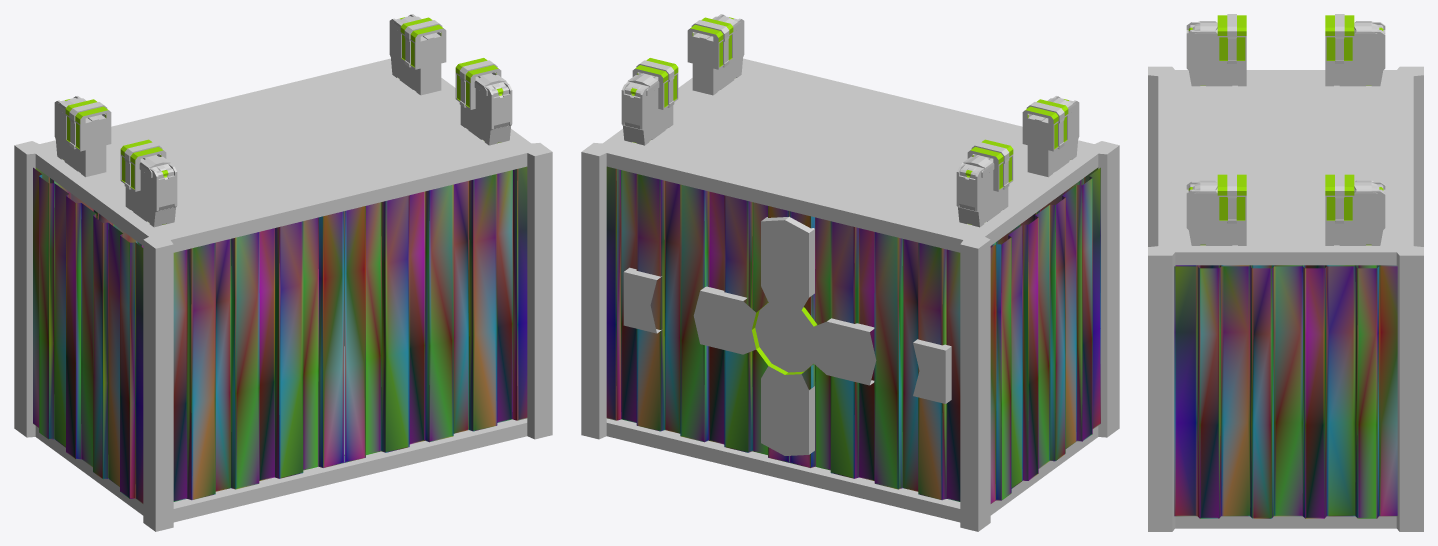
File: Container_Black.fbx
The picture shows the model from 3 angles, left to right: view 1: azimuth 30°, elevation 25°; view 2: azimuth 150°, elevation 25°; view 3: azimuth 270°, elevation 25°; orthographic projection. The views are drawn at different scales.
Visible parts, largest first — view 1: Container_Back_MAT01_0.001, Container_Black, Container_Back_MAT01_0.002, mod_gabenette.002; view 2: Container_Black, Container_Back_MAT01_0.001, Container_Back_MAT01_0.002, Arm_Container_Support.001, mod_gabenette.002; view 3: Container_Black, Container_Back_MAT01_0.002, mod_gabenette.002.
Part boxes in pixels (box(x1,y1,x2,y2)): Container_Back_MAT01_0.001: box(35, 166, 527, 501); Container_Black: box(14, 58, 552, 531); Container_Back_MAT01_0.002: box(33, 167, 143, 503); mod_gabenette.002: box(54, 14, 512, 227); Container_Black: box(581, 58, 1119, 531); Container_Back_MAT01_0.001: box(606, 166, 1098, 501); Container_Back_MAT01_0.002: box(990, 167, 1100, 503); Arm_Container_Support.001: box(623, 216, 951, 455); mod_gabenette.002: box(621, 14, 1079, 227); Container_Black: box(1148, 66, 1423, 531); Container_Back_MAT01_0.002: box(1174, 265, 1397, 518); mod_gabenette.002: box(1186, 14, 1385, 245).
Bounding box in the file's own units: 308 × 256 × 190.
